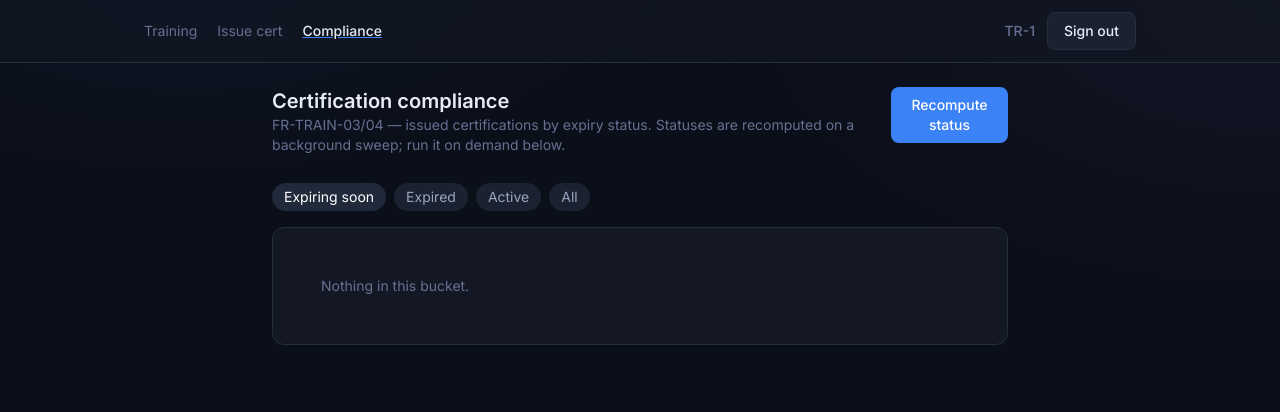
Scenario: CompliancePage › runs recompute and shows the checked/updated result (write only)
Expected: the text "Nothing in this bucket." is shown, [321,277,469,294]
Click the button "Recompute status".
click(950, 115)  # box [891,87,1008,143]
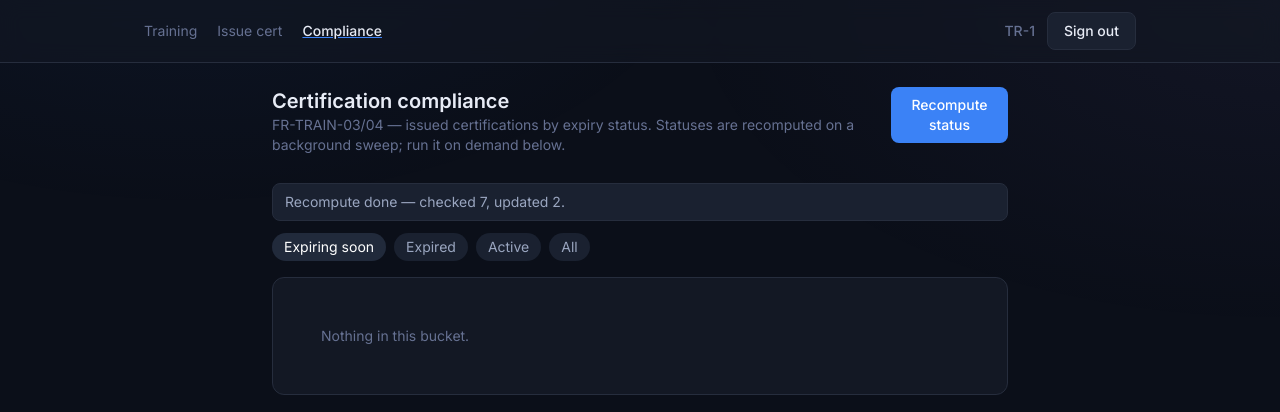
Expected: the text "Recompute done — checked 7, updated 2." is shown, [272,183,1008,221]
